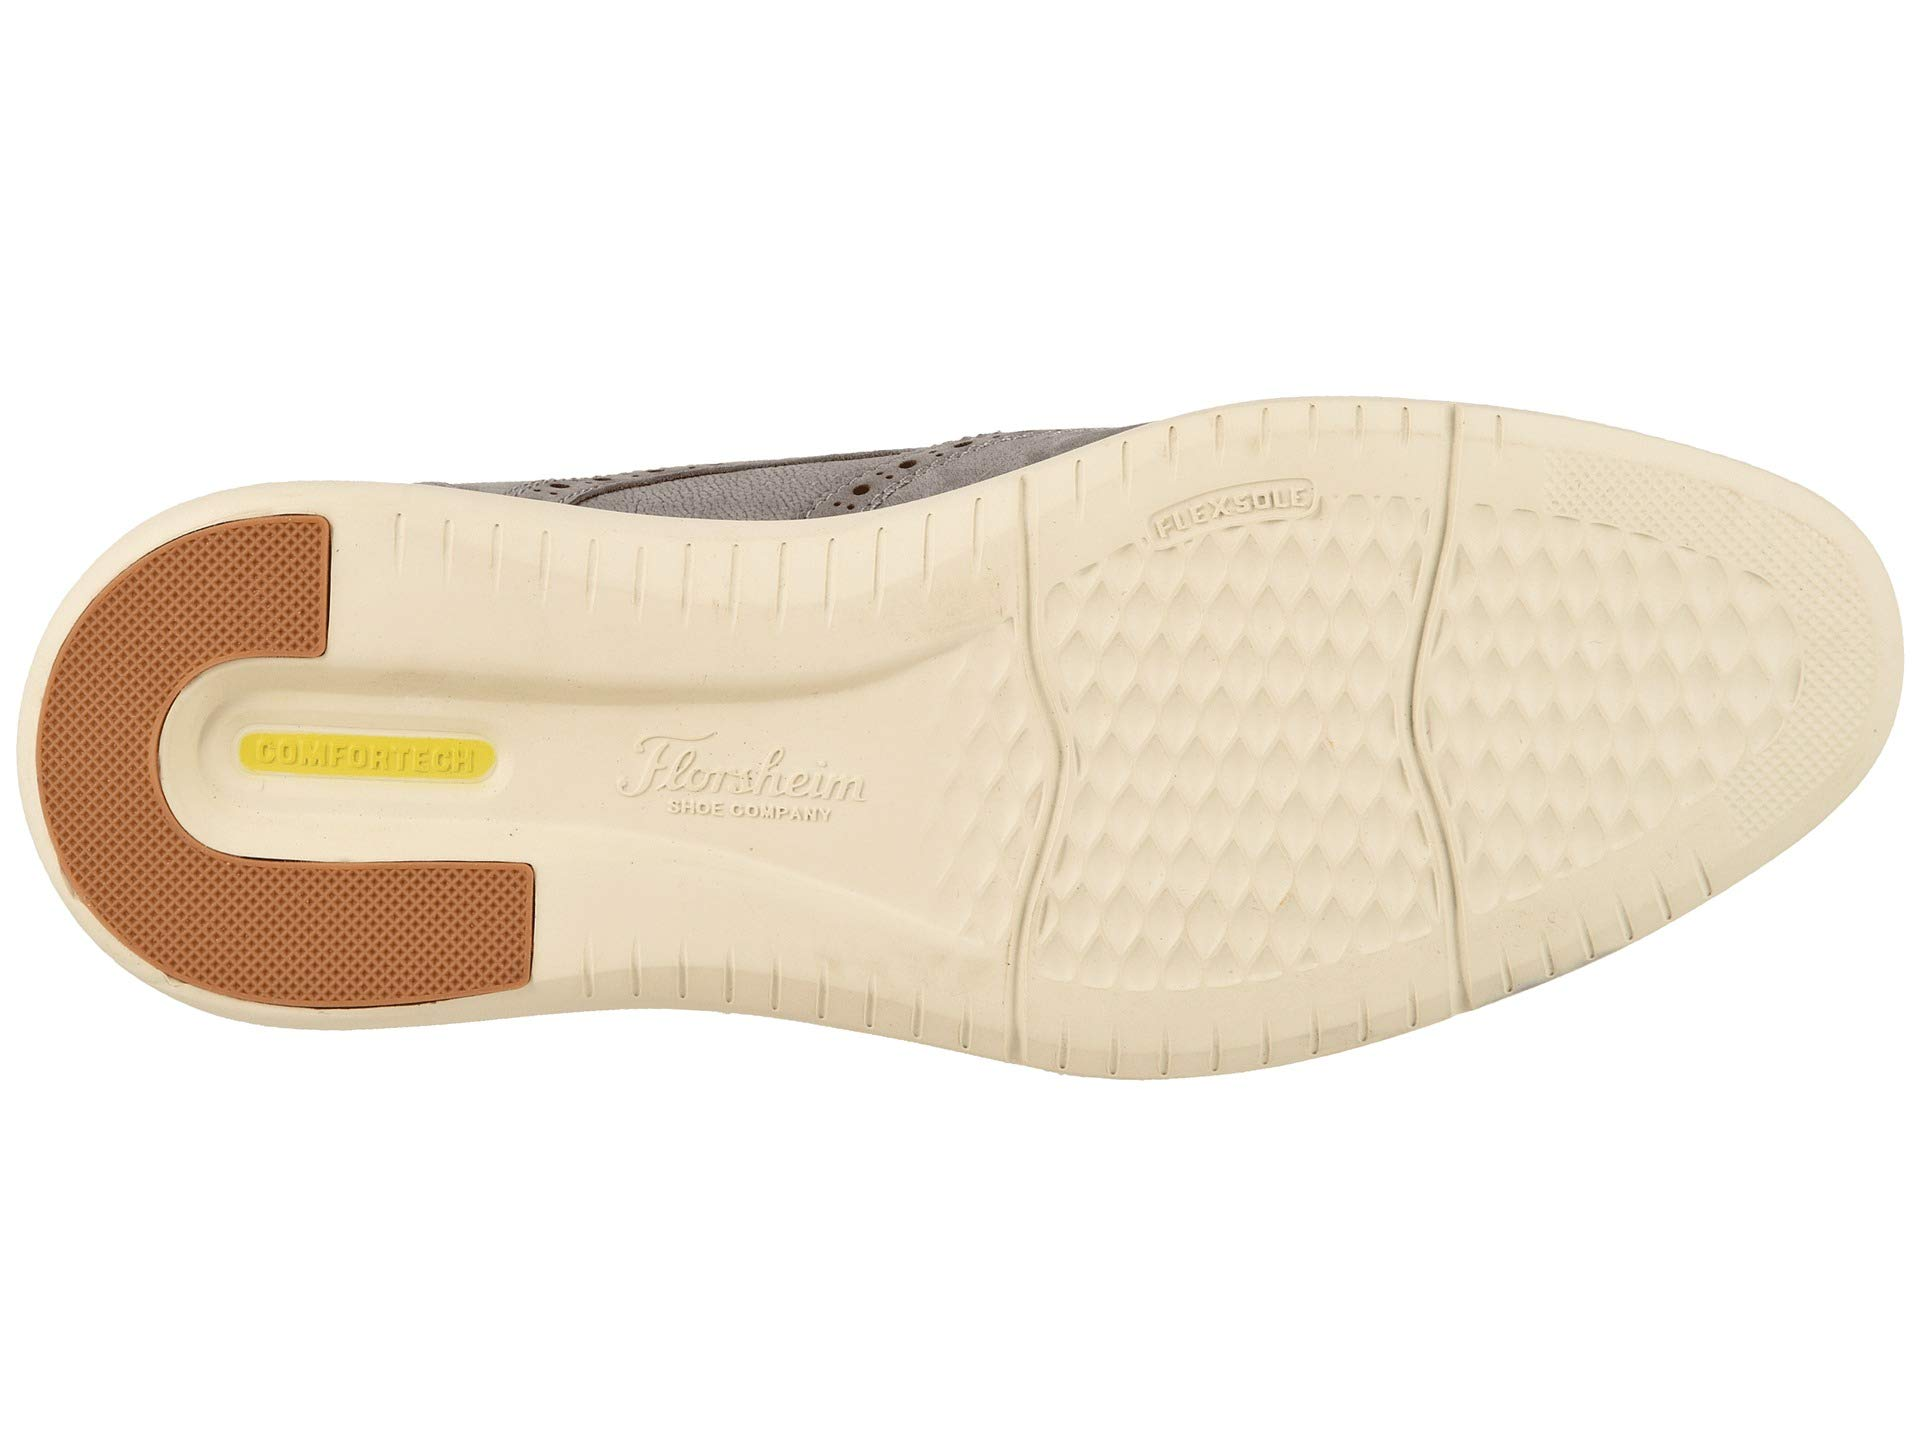polygon: (1107, 584, 1377, 852)
text: (612, 706, 887, 927)
